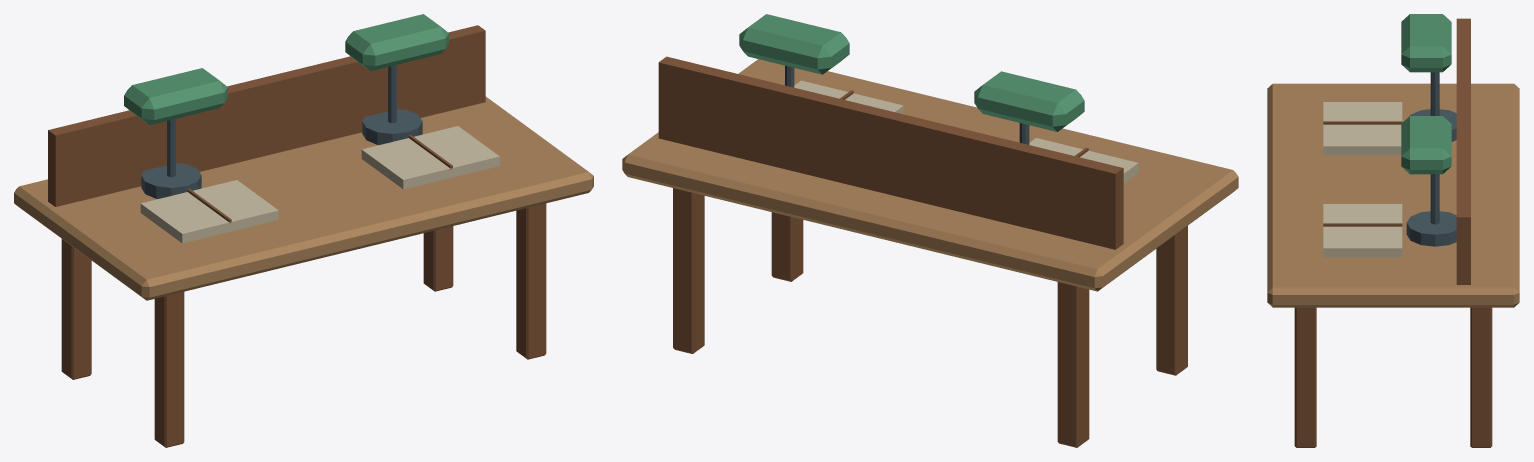
File: reading_desk.glb
The picture shows the model from 3 angles, left to right: view 1: azimuth 30°, elevation 25°; view 2: azimuth 150°, elevation 25°; view 3: azimuth 270°, elevation 25°; orthographic projection. The views are drawn at different scales.
Visible parts, largest first — view 1: reading_desk; view 2: reading_desk; view 3: reading_desk.
Part boxes in pixels (box(x1,y1,x2,y2)): reading_desk: box(14, 14, 593, 447); reading_desk: box(622, 14, 1238, 447); reading_desk: box(1267, 14, 1519, 447).
Bounding box in the file's own units: 2.25 × 1.41 × 1.15.
